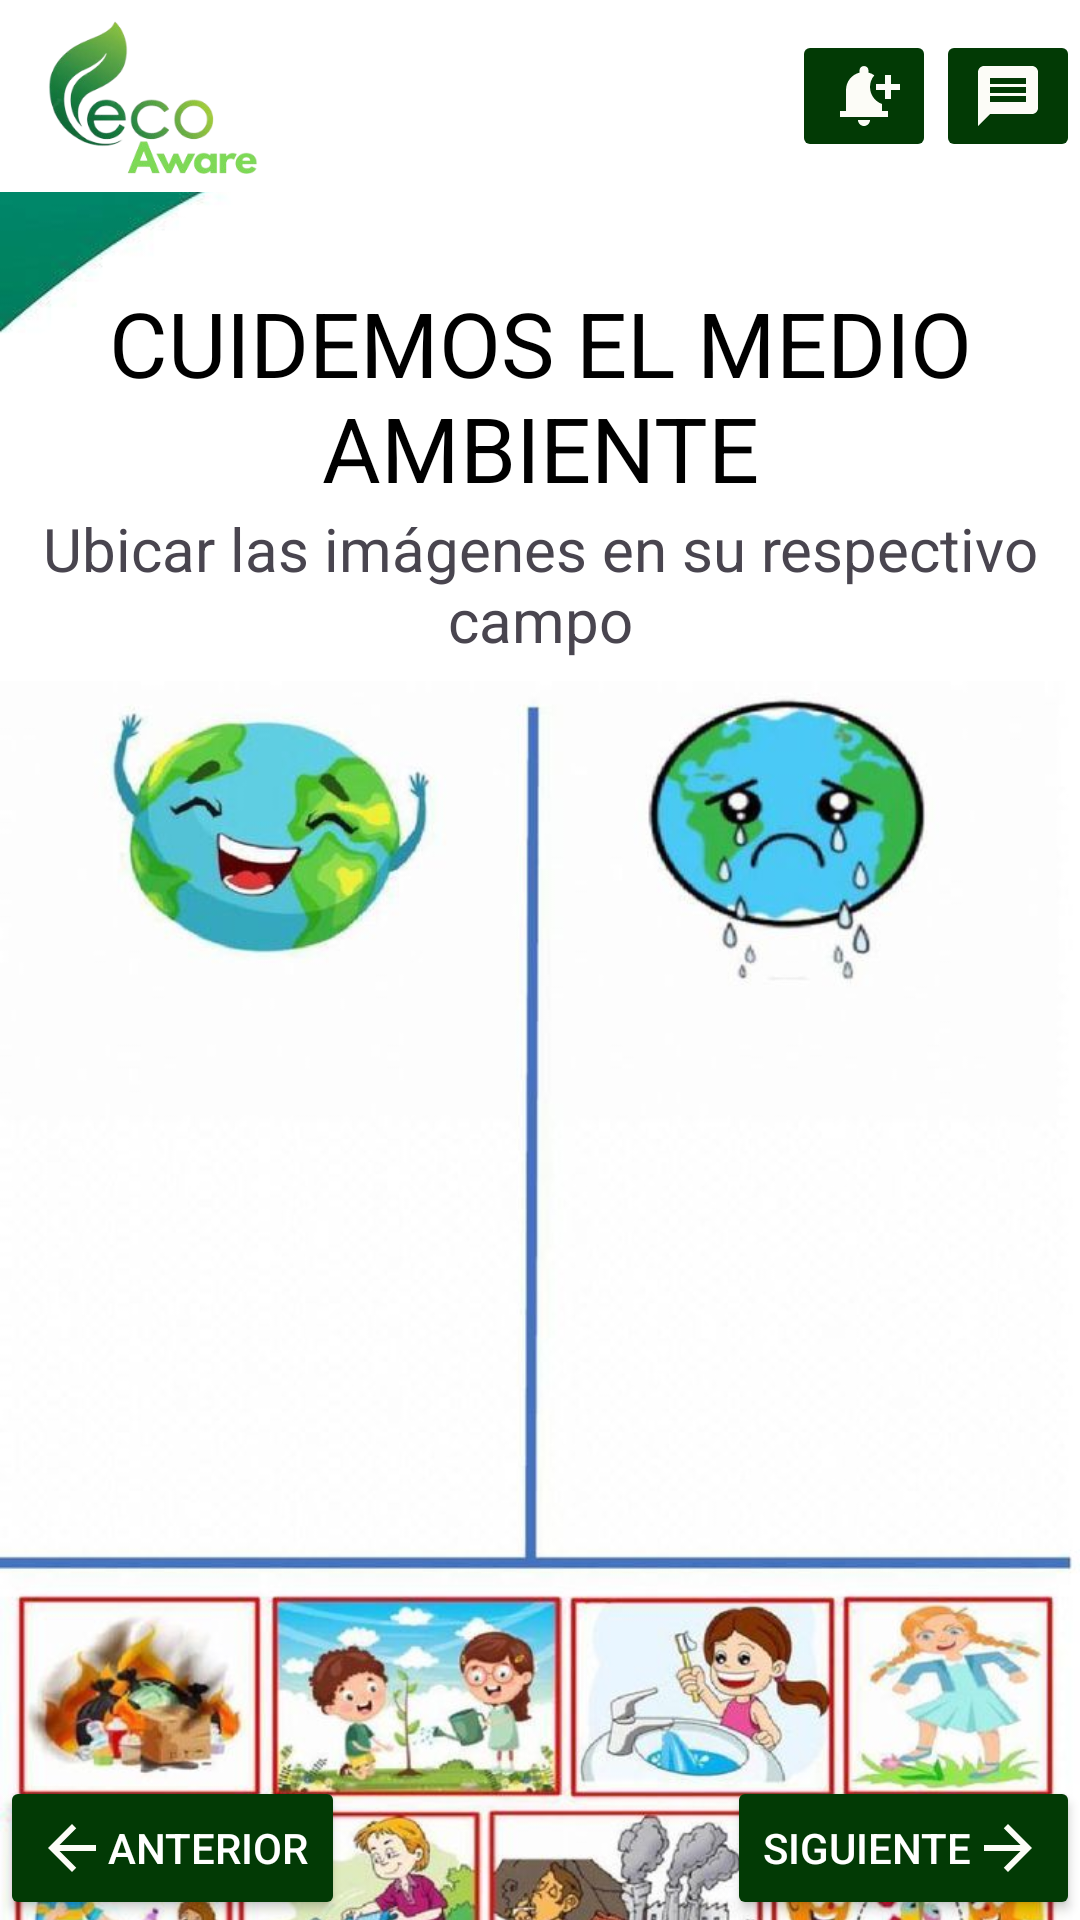

Screen size 1080 × 1920. Icon name, then its center in pixels as (x=x, y=y):
iconomensaje: (x=1008, y=96)
icononotificacion: (x=864, y=96)
